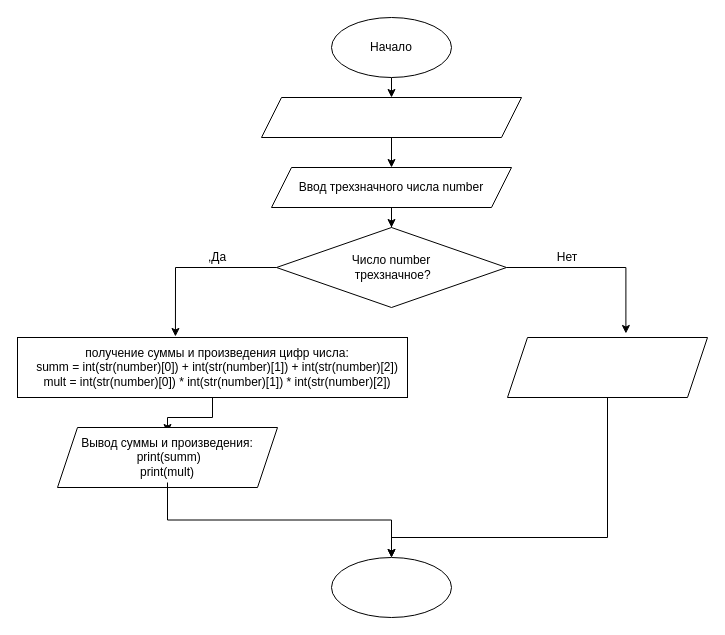
Some shapes in this 725 by 635 pixel diagram are drawn without their labels. Each missing label, with the centre of its shape:
Вывод сообщения об ошибке: point (607, 367)
Вывод: введите трехзначное число: point (391, 117)
Конец: point (391, 587)
